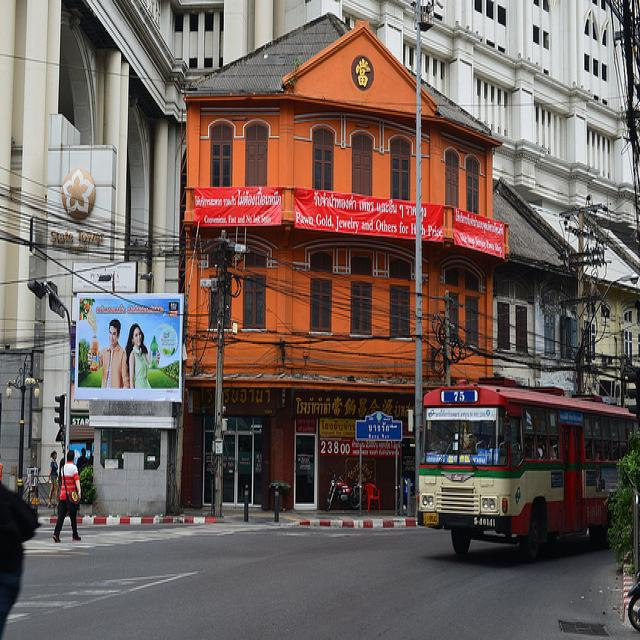motor: (325, 466, 361, 512), (627, 569, 640, 634)
